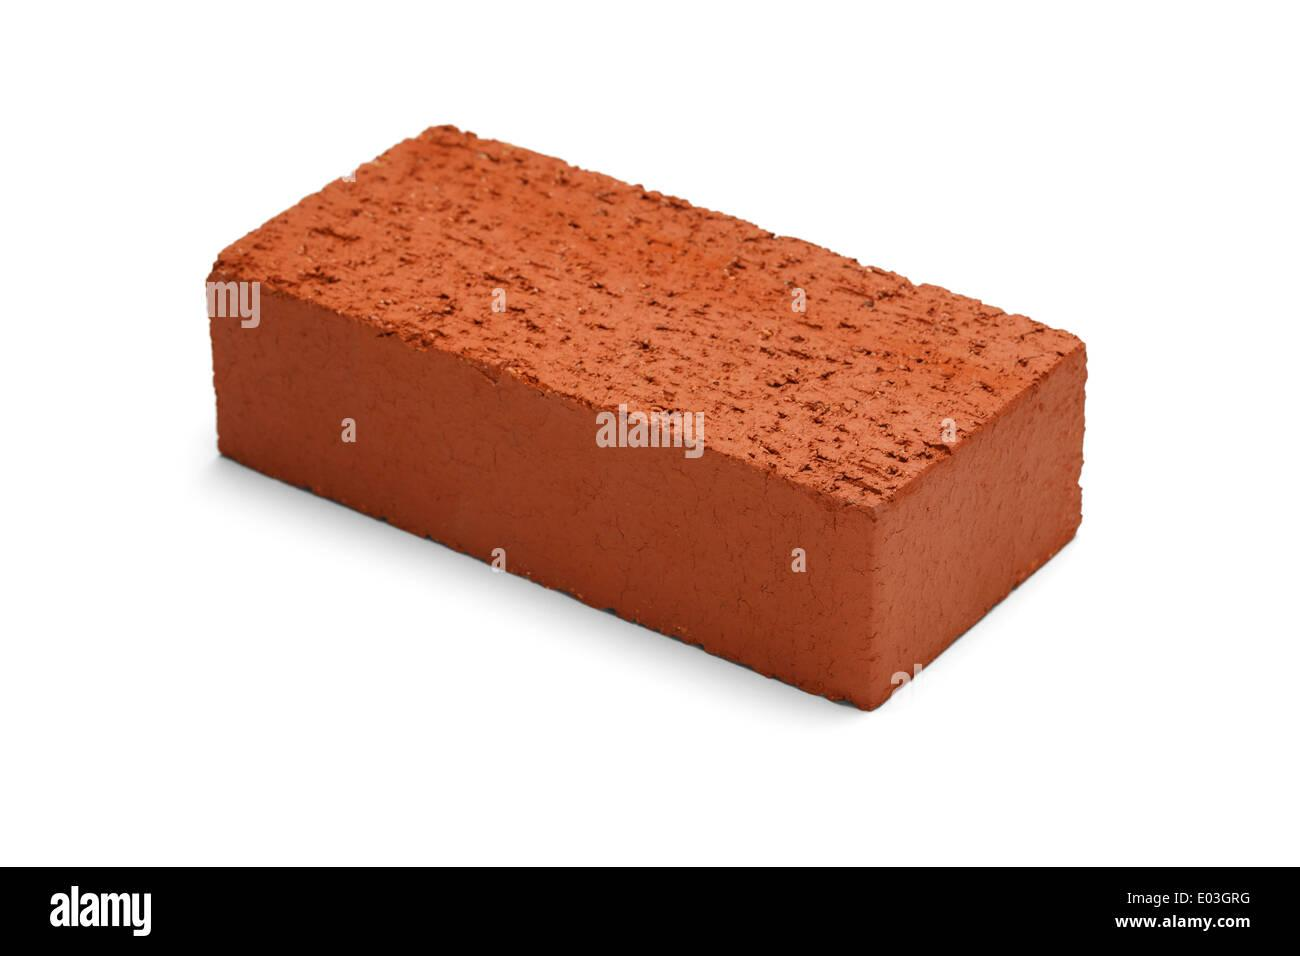Bricks: (203, 126, 1091, 714)
